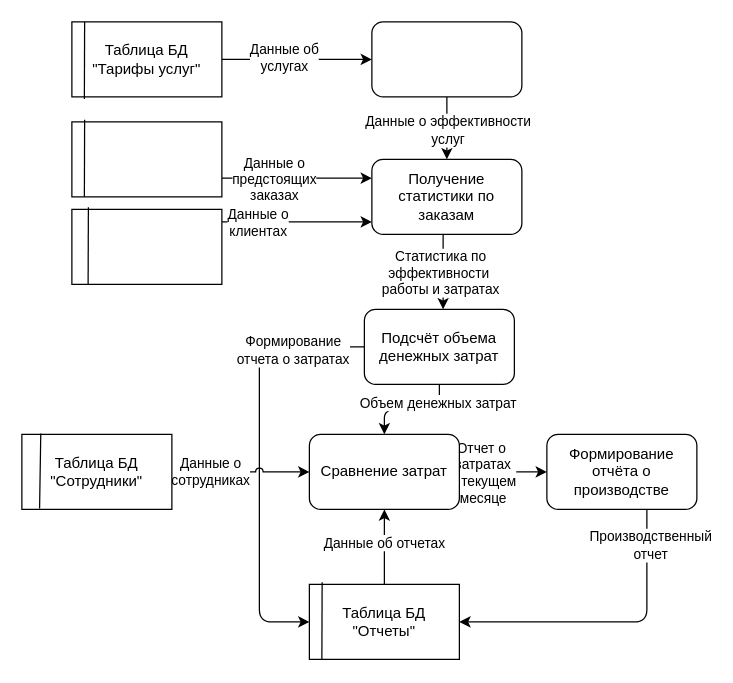
The diagram is 733 pixels wide and 683 high, and some of its shapes have lost their labels. Here are the shapes that lost their labels. From the top down, the centre of each, then its label:
point (446, 59): Получение данных об услугах
point (146, 159): Таблица БД "Данные о заказах"
point (146, 246): Таблица БД "Данные о клиентах"
